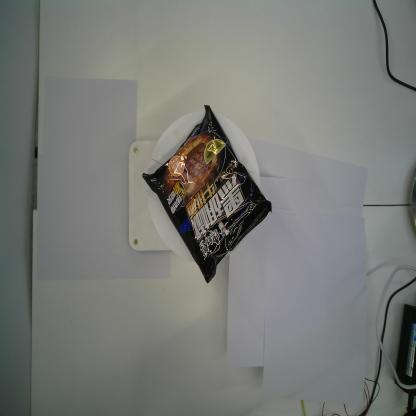Instant Noodles: (142, 105, 272, 283)
